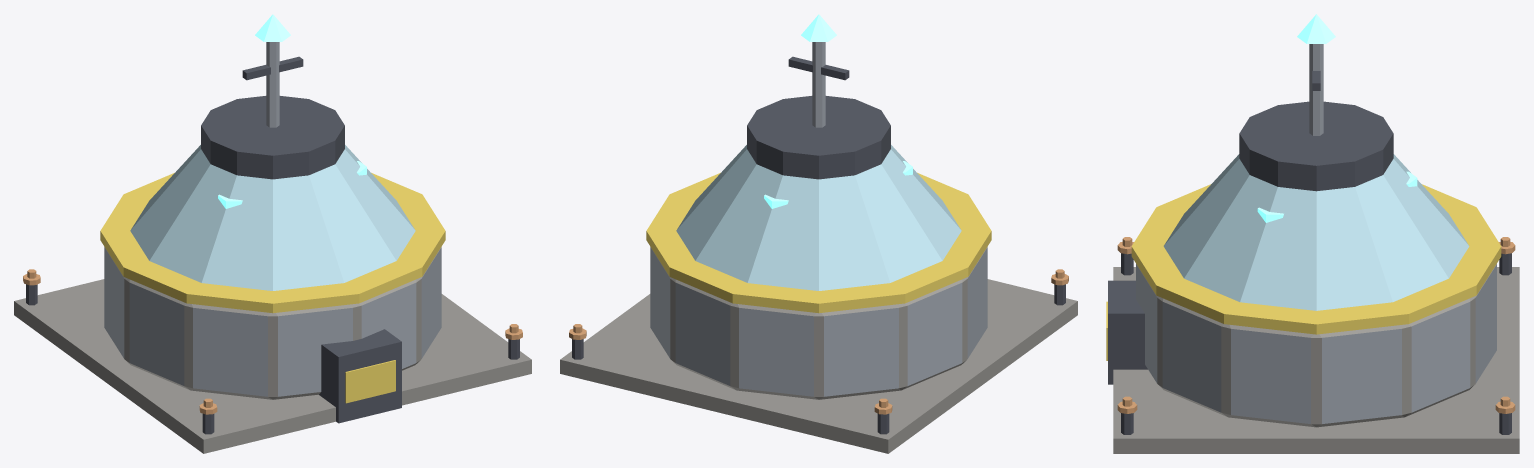
Rendered from laboratorio.glb.
The picture shows the model from 3 angles, left to right: view 1: azimuth 30°, elevation 25°; view 2: azimuth 150°, elevation 25°; view 3: azimuth 270°, elevation 25°; orthographic projection. The views are drawn at different scales.
Visible parts, largest first — view 1: laboratorio_corpo, laboratorio_antena; view 2: laboratorio_corpo, laboratorio_antena; view 3: laboratorio_corpo, laboratorio_antena.
Part boxes in pixels (<box>): laboratorio_corpo: <box>14,96,531,453</box>; laboratorio_antena: <box>242,14,303,127</box>; laboratorio_corpo: <box>560,96,1077,453</box>; laboratorio_antena: <box>788,14,849,127</box>; laboratorio_corpo: <box>1106,101,1519,453</box>; laboratorio_antena: <box>1297,14,1335,135</box>.
Bounding box in the file's own units: 2.9 × 2.79 × 2.95.
